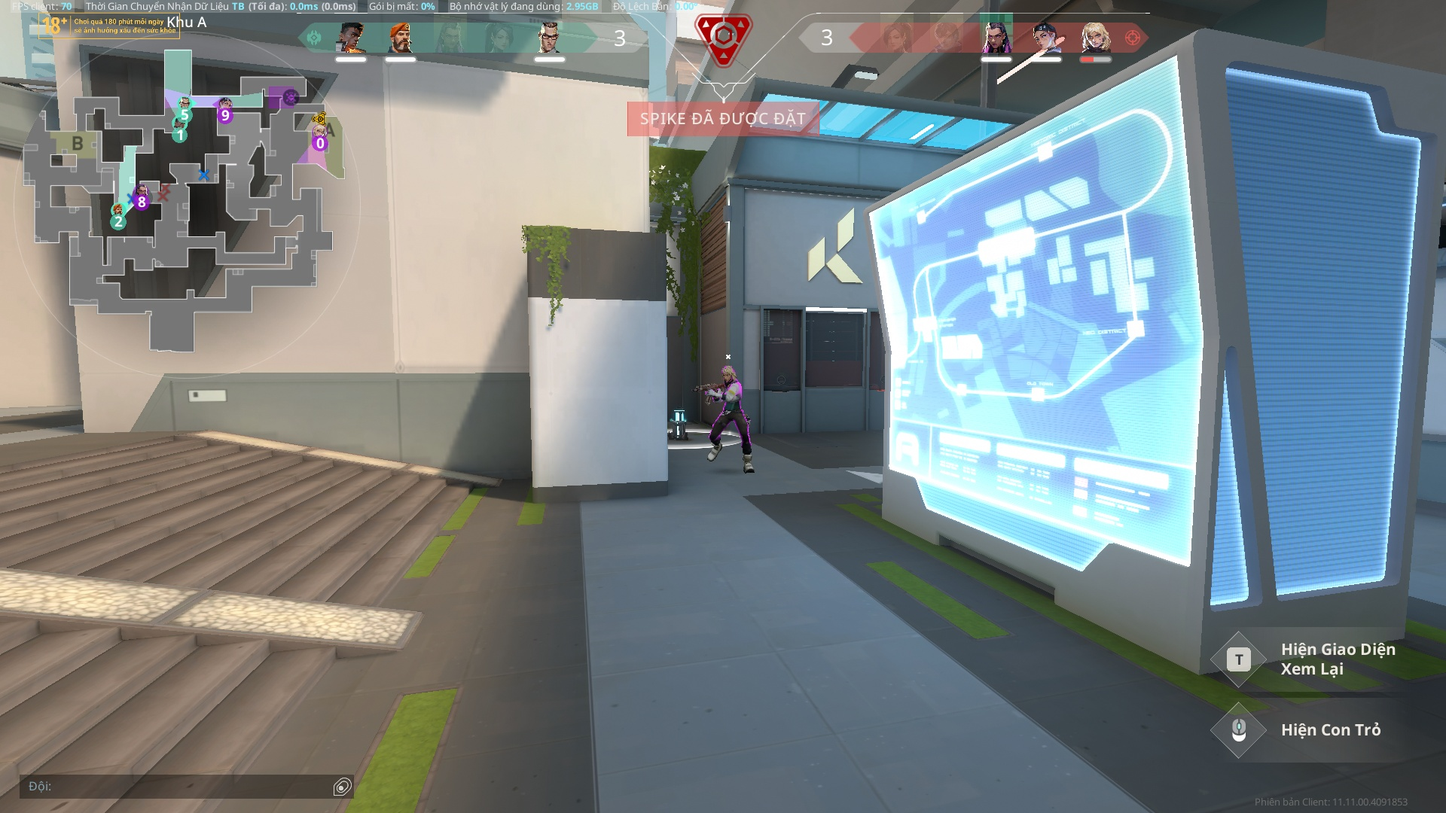body: (722, 379, 743, 407)
head: (721, 365, 735, 380)
